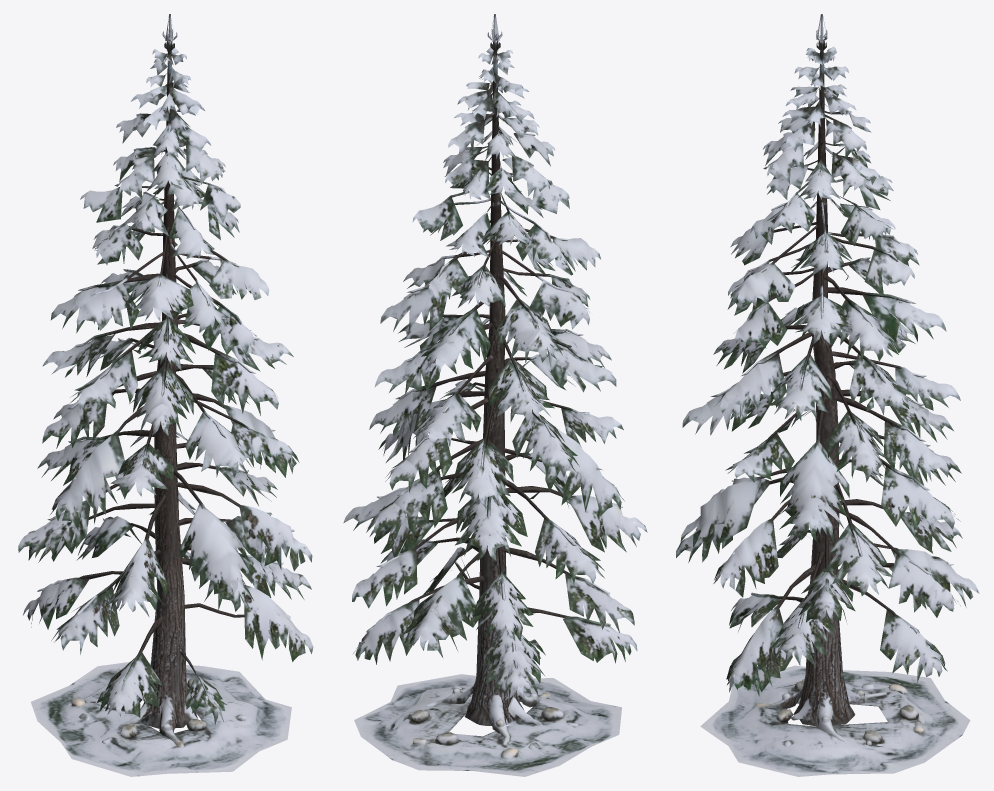
The model's file is snowy-pine-tree.glb.
The picture shows the model from 3 angles, left to right: view 1: azimuth 30°, elevation 25°; view 2: azimuth 150°, elevation 25°; view 3: azimuth 270°, elevation 25°; orthographic projection.
Visible parts, largest first — view 1: tripo_226bd116_55cb_45e6_a22b_6066322235ce; view 2: tripo_226bd116_55cb_45e6_a22b_6066322235ce; view 3: tripo_226bd116_55cb_45e6_a22b_6066322235ce.
Boxes of the visible parts, left/top/right/bottom form: tripo_226bd116_55cb_45e6_a22b_6066322235ce: left=18, top=14, right=313, bottom=776; tripo_226bd116_55cb_45e6_a22b_6066322235ce: left=343, top=14, right=647, bottom=776; tripo_226bd116_55cb_45e6_a22b_6066322235ce: left=676, top=14, right=979, bottom=776.
Bounding box in the file's own units: 0.3804 × 0.9995 × 0.3872.
Materials: 1 (1 with a texture image).
